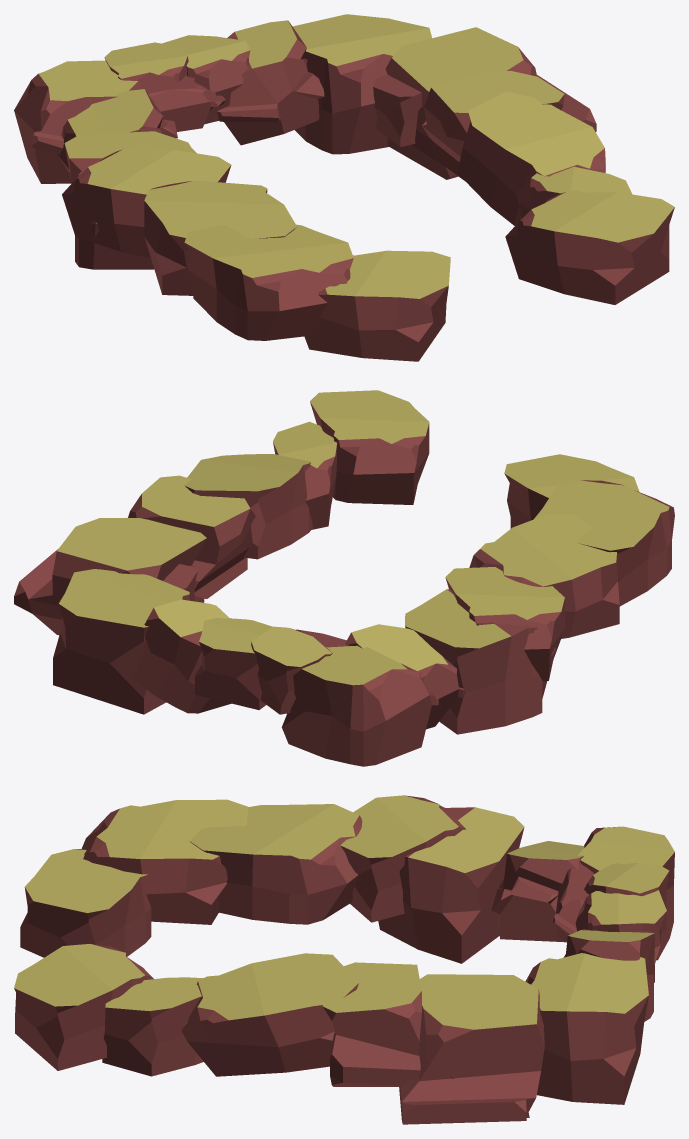
File: Batu Besar.fbx
3 renders of one model, top to bottom at view 1: azimuth 30°, elevation 25°; view 2: azimuth 150°, elevation 25°; view 3: azimuth 270°, elevation 25°, orthographic. The views are drawn at different scales.
Parts seen in each view (by area): view 1: Suround stones; view 2: Suround stones; view 3: Suround stones.
Boxes of the visible parts, bbox=[...] form: Suround stones: bbox=[14, 14, 674, 361]; Suround stones: bbox=[14, 390, 674, 766]; Suround stones: bbox=[14, 795, 674, 1124].
Bounding box in the file's own units: 20564 × 4277 × 22170.
